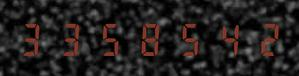eight: (131, 20, 168, 56)
five: (93, 20, 130, 56), (169, 20, 206, 56)
four: (207, 20, 244, 56)
three: (17, 20, 54, 56), (55, 20, 92, 56)
two: (245, 20, 282, 56)
